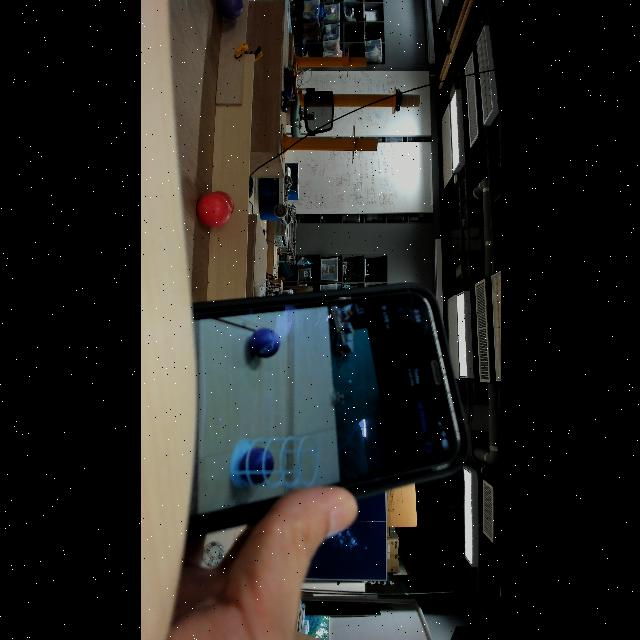P: (215, 0, 243, 20)
R: (195, 192, 231, 230), (206, 191, 234, 223)
